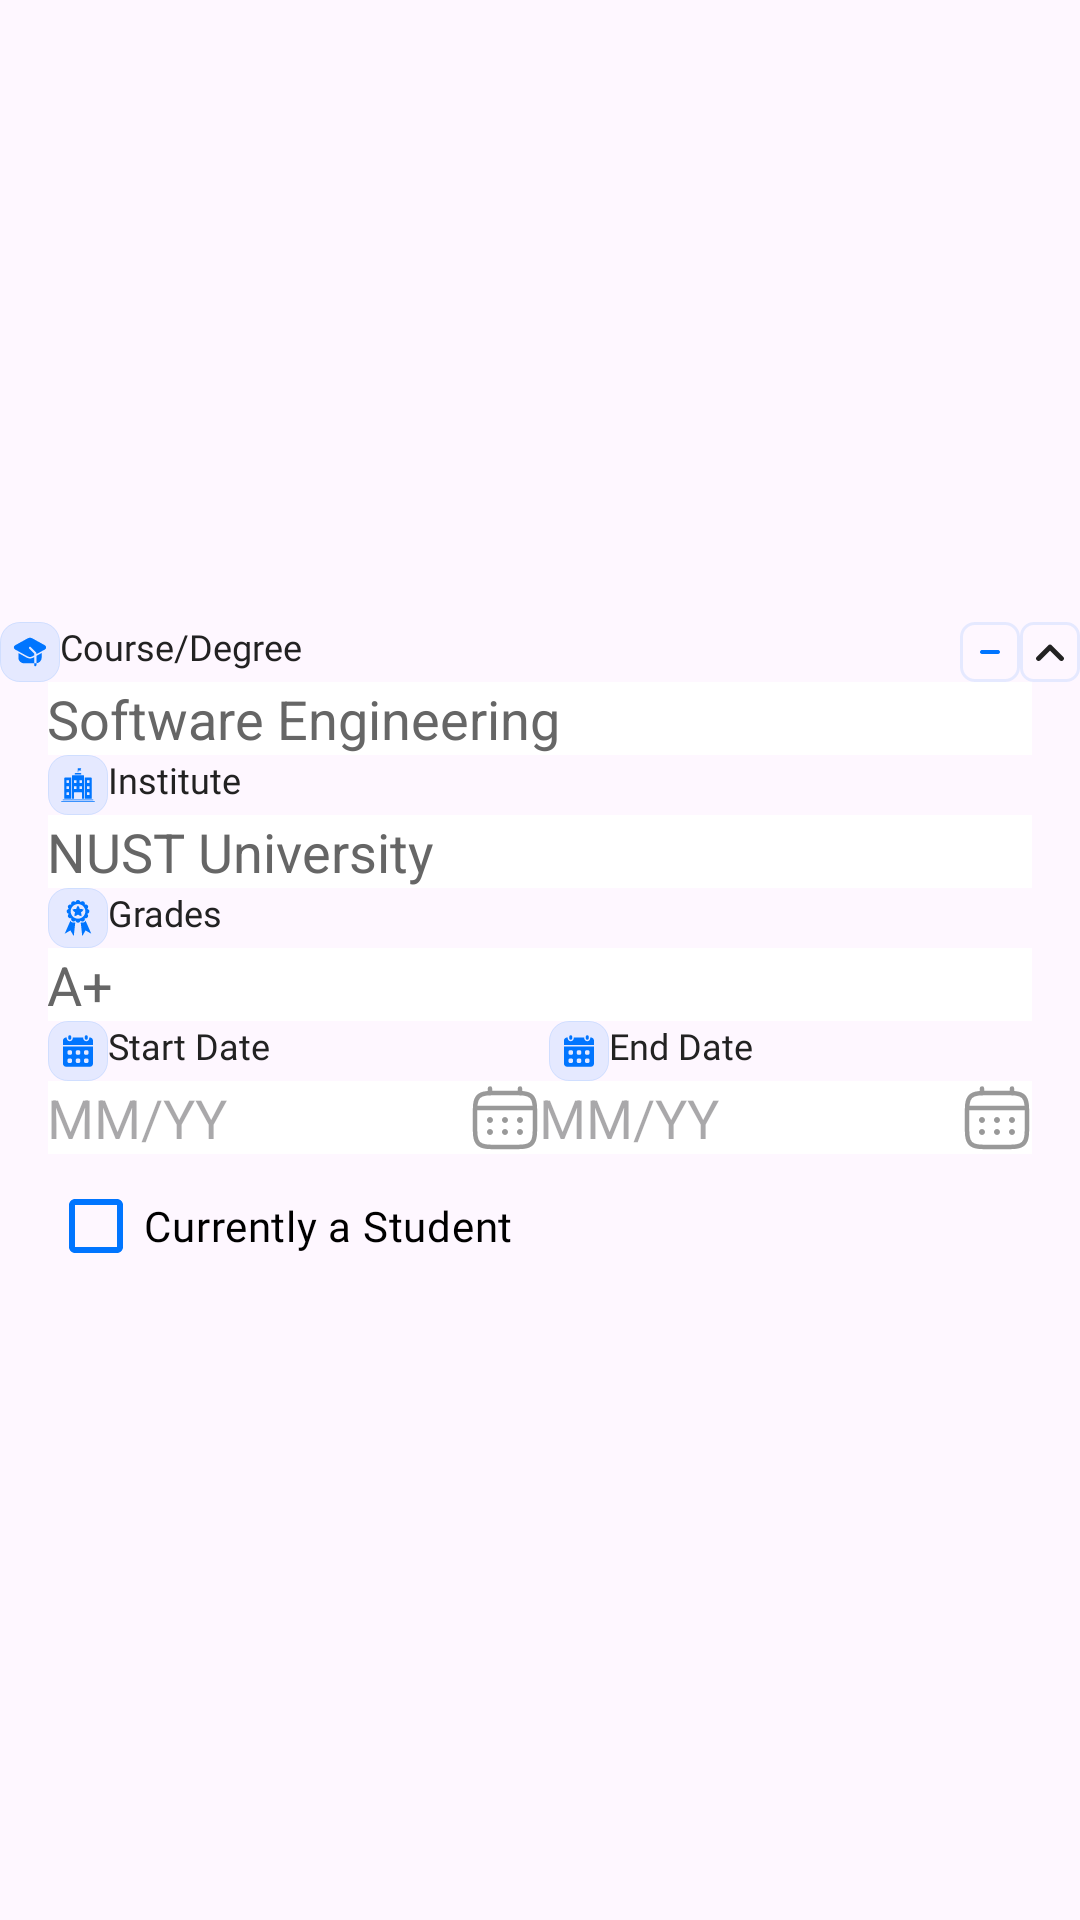

Locate icon controls on the screen. Image size 1080 × 1920, boxes as [x1, y1, x2, y2].
collapsse: [1020, 622, 1080, 682]
remove: [960, 622, 1020, 682]
